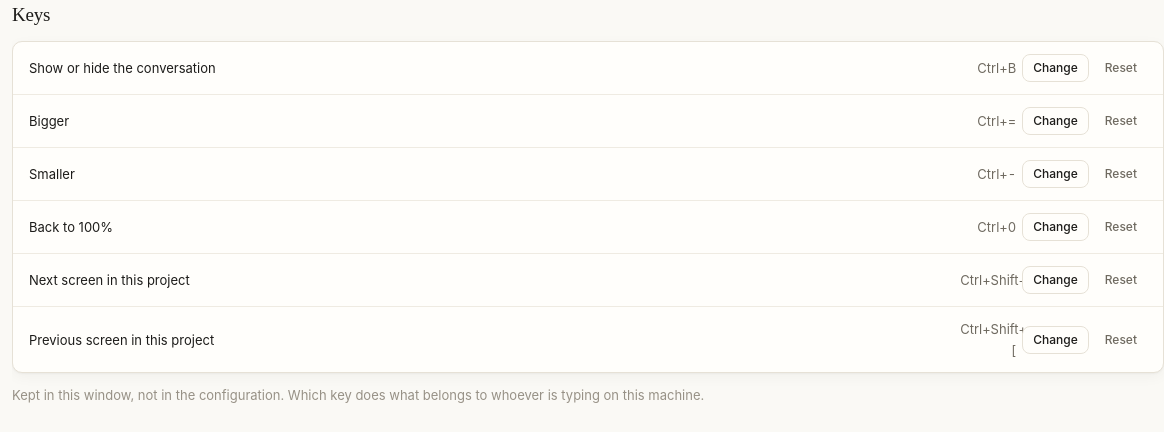
Scenario: KeysPanel › refuses a keystroke another action already answers to, and says whose
This screenshot has width=1164, height=432.
Click the button "Change" next to "Ctrl+B" at [1055, 68], box [1022, 54, 1089, 82]
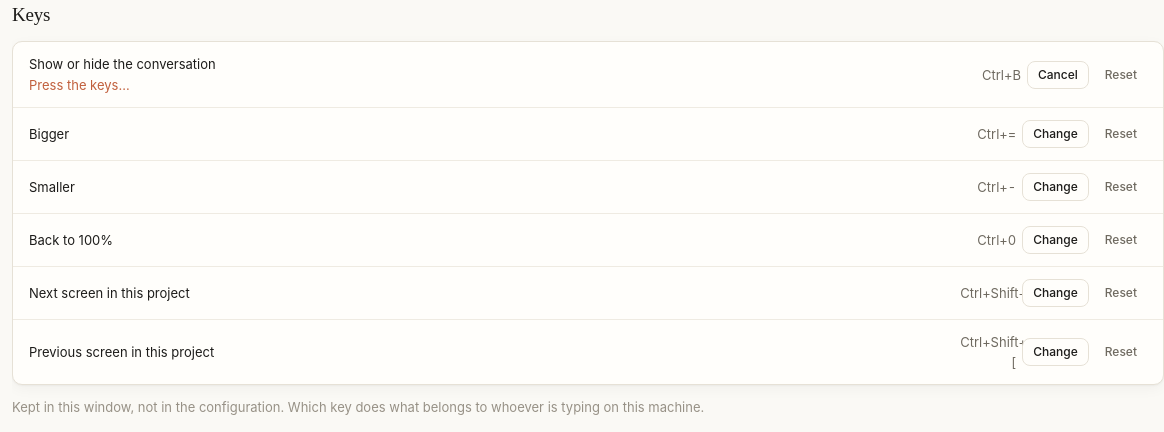
// `mod+0` belongs to the zoom reset.
Press 0
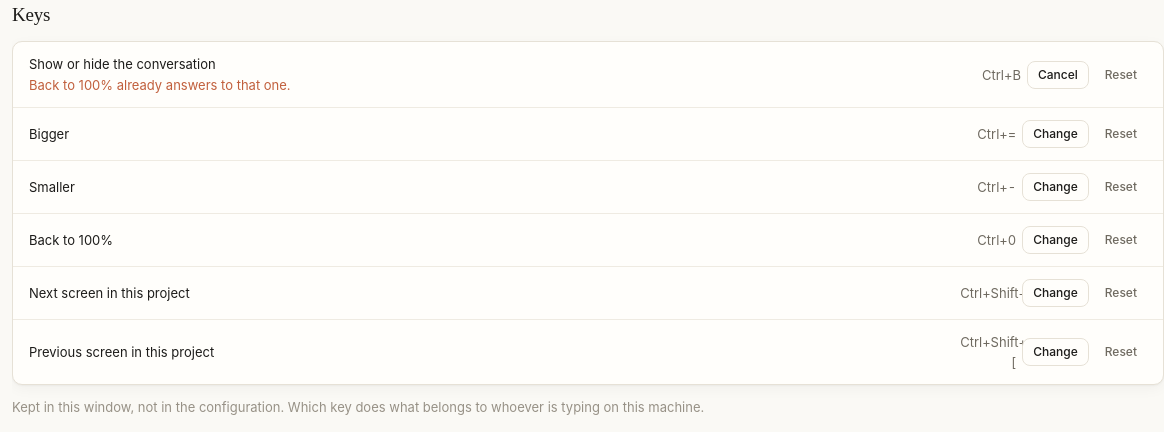
expect the text "Back to 100% already answers to that one." is shown: met, box [29, 75, 291, 95]
